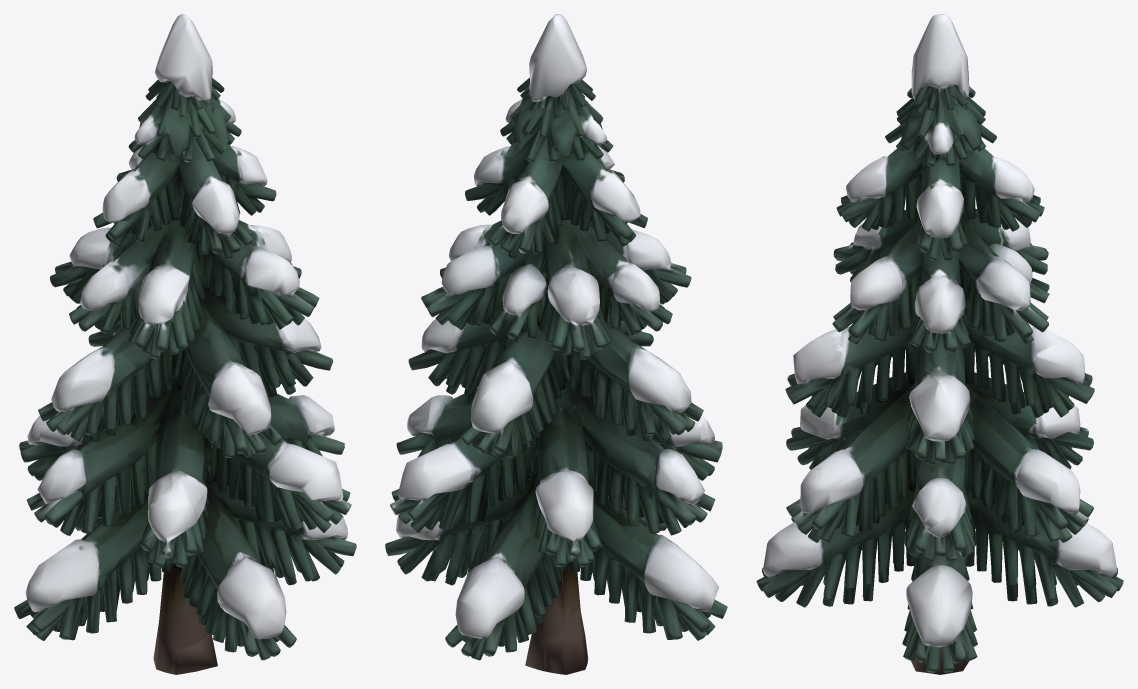
Rendered from tree-a.glb.
3 views of the same model, side by side, from view 1: azimuth 30°, elevation 25°; view 2: azimuth 150°, elevation 25°; view 3: azimuth 270°, elevation 25° (orthographic).
Parts seen in each view (by area): view 1: node_0; view 2: node_0; view 3: node_0.
Boxes of the visible parts, box(x1,y1,x2,y2) form: node_0: box(14, 14, 356, 674); node_0: box(385, 14, 727, 674); node_0: box(756, 14, 1123, 674).
Size of the model in its own units: 0.6238 by 1.19 by 0.6142.
1 material, 1 textured.
